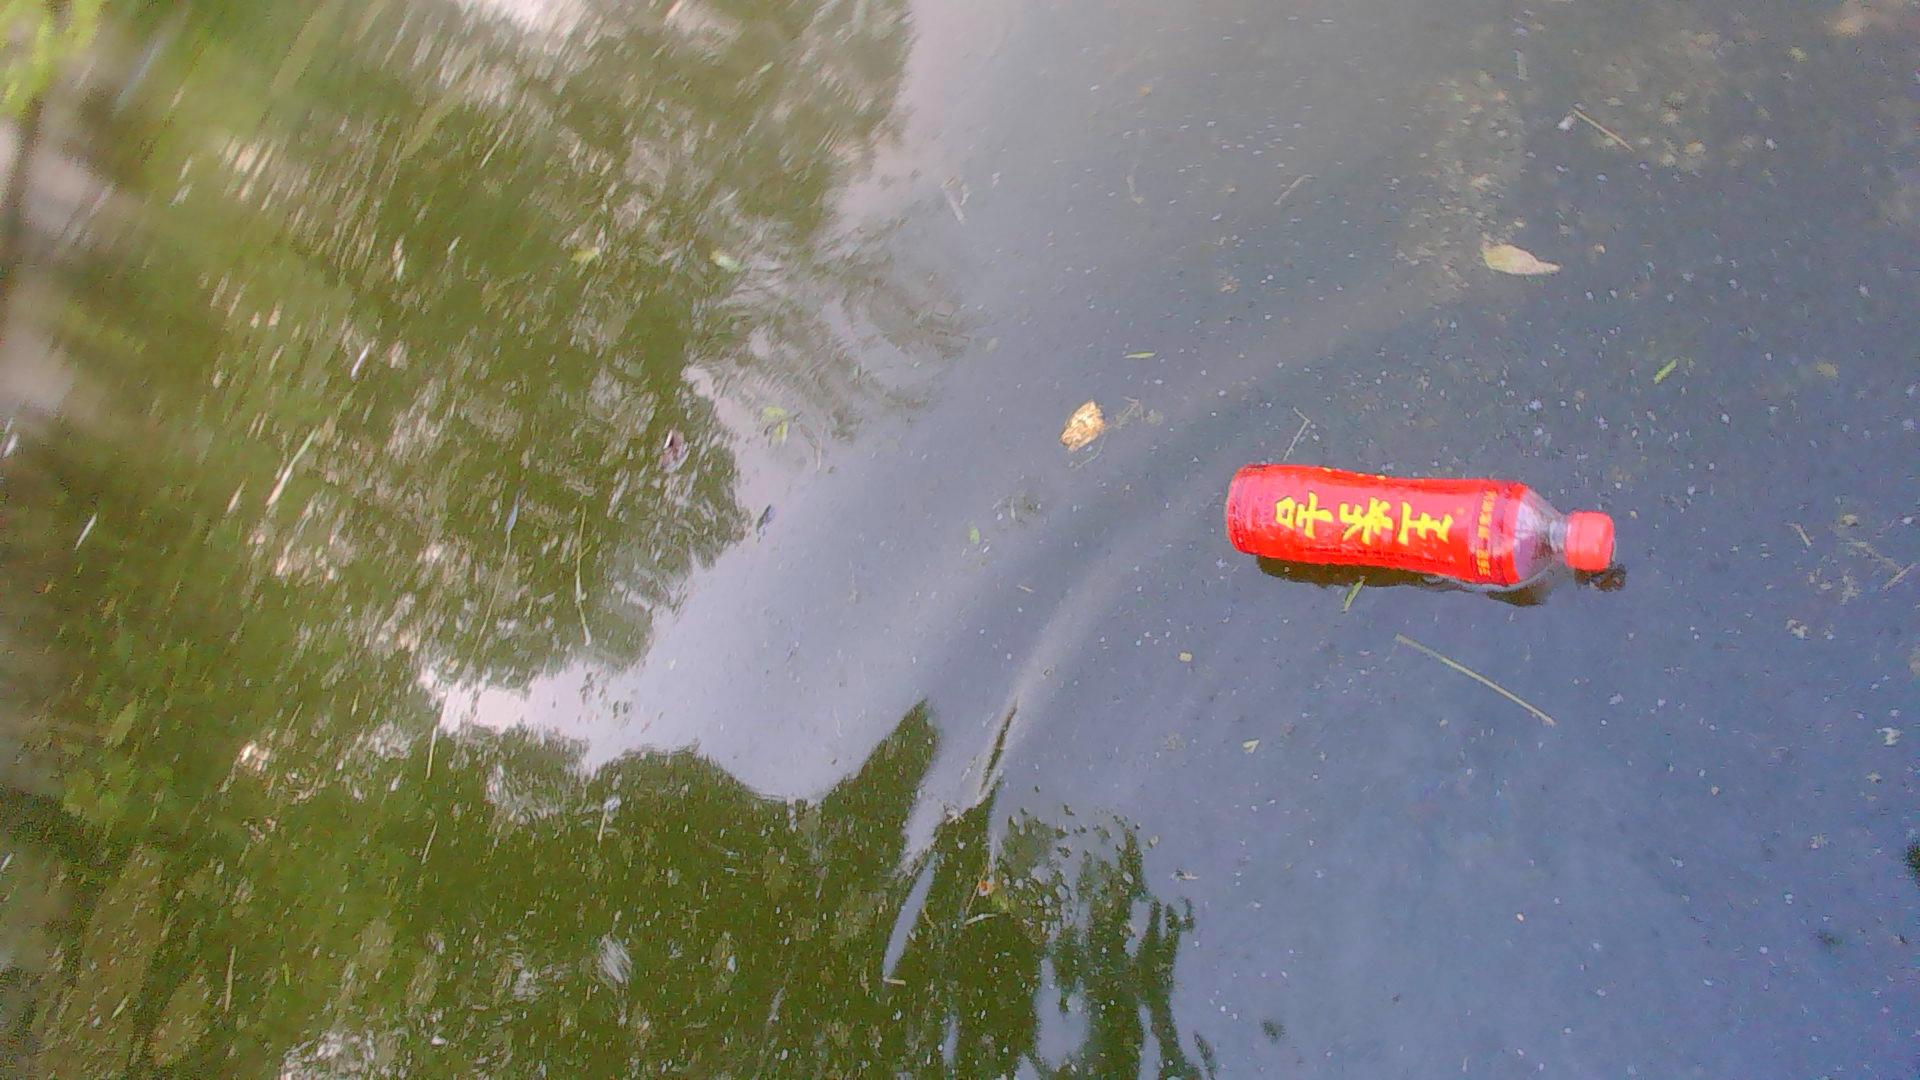Plastic: (1222, 451, 1619, 601)
